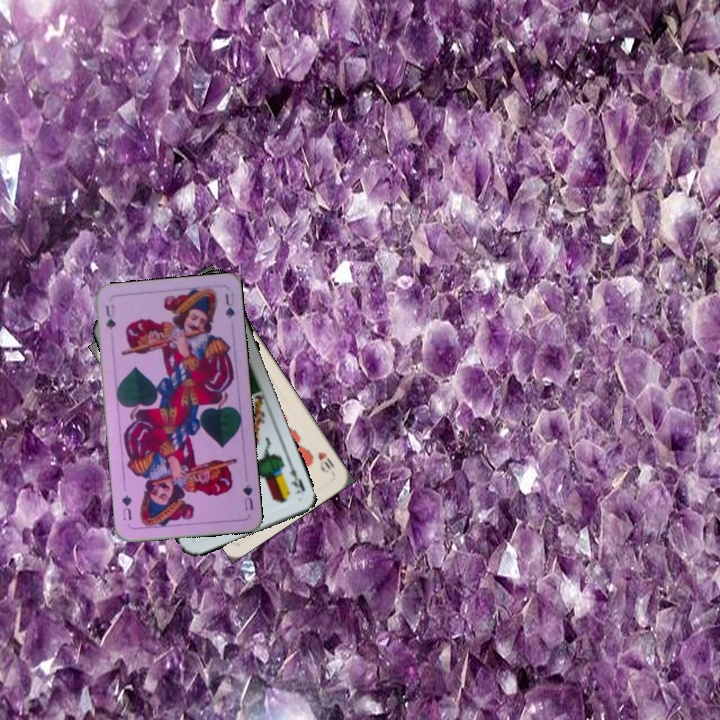EK: (285, 458, 308, 498)
GU: (239, 480, 256, 513), (102, 300, 118, 332)
H10: (314, 448, 337, 476)
